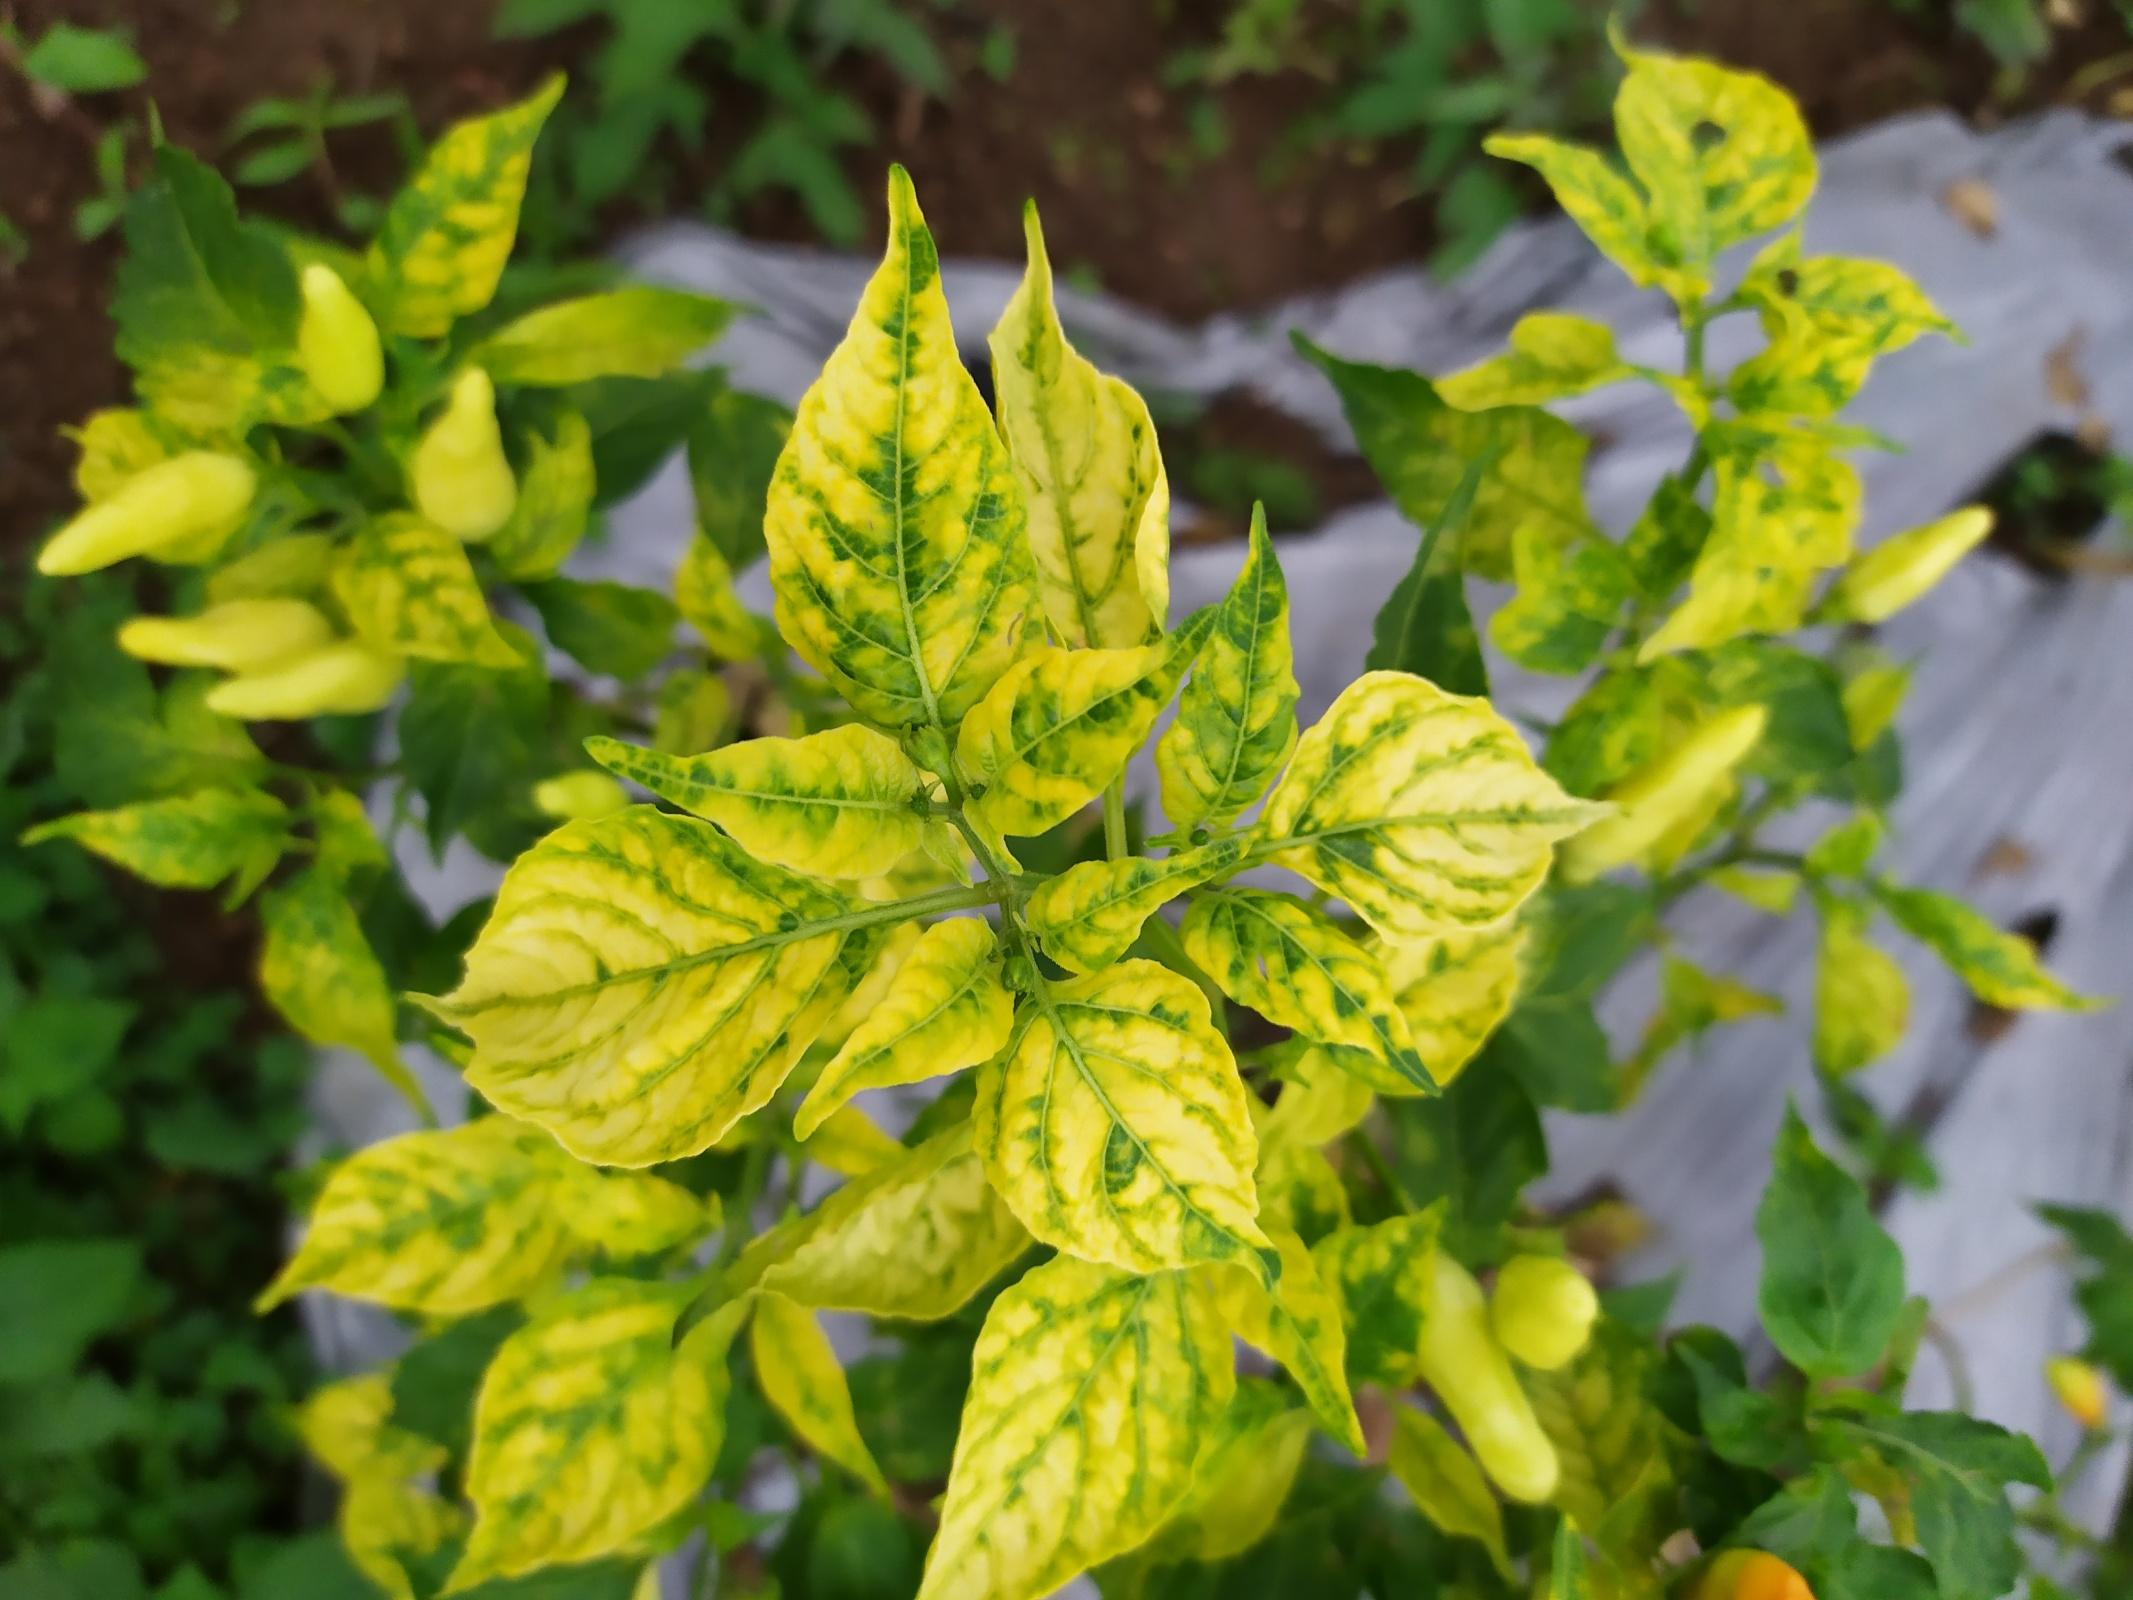cabai_normal: (1414, 1249, 1562, 1503), (1562, 703, 1768, 864), (35, 449, 254, 580), (407, 365, 523, 546), (1839, 504, 1997, 624), (202, 639, 402, 721), (121, 600, 333, 676), (294, 262, 385, 415), (1493, 1247, 1600, 1371)
